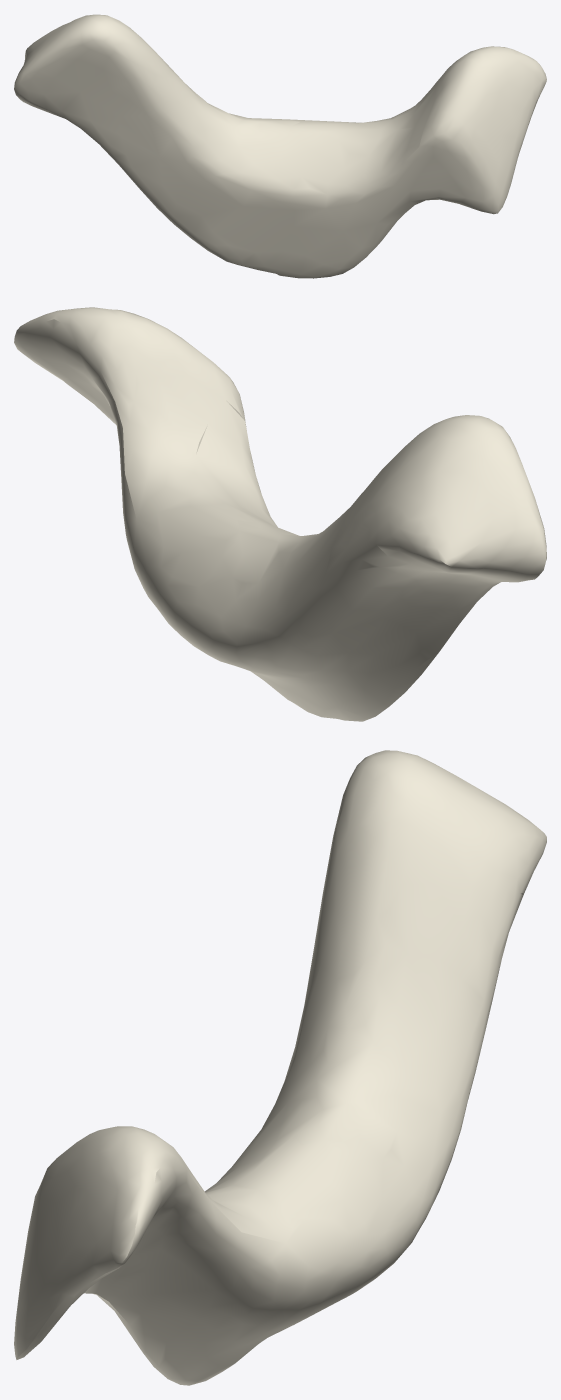
File: fma296533_mm1561.glb
3 renders of one model, top to bottom at view 1: azimuth 30°, elevation 25°; view 2: azimuth 150°, elevation 25°; view 3: azimuth 270°, elevation 25°, orthographic. The views are drawn at different scales.
Visible parts, largest first — view 1: FMA296533_MM1561; view 2: FMA296533_MM1561; view 3: FMA296533_MM1561.
Boxes of the visible parts, x1,y1,x2,y2 form: FMA296533_MM1561: (14,14,546,278); FMA296533_MM1561: (14,307,546,721); FMA296533_MM1561: (14,750,546,1385).
Size of the model in its own units: 0.0151 by 0.0086 by 0.0088.
